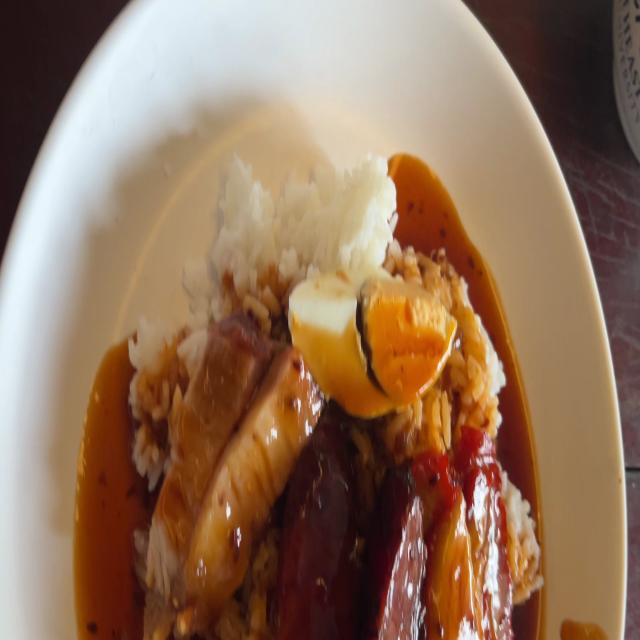01boiled_egg: (290, 276, 454, 416)
01chainese_sausage: (286, 432, 429, 640)
01crispy_pork: (156, 328, 294, 600)
01red_pork: (430, 422, 524, 640)
01red_pork_and_crispy_pork: (132, 121, 544, 640)
01rice: (212, 147, 398, 273)
